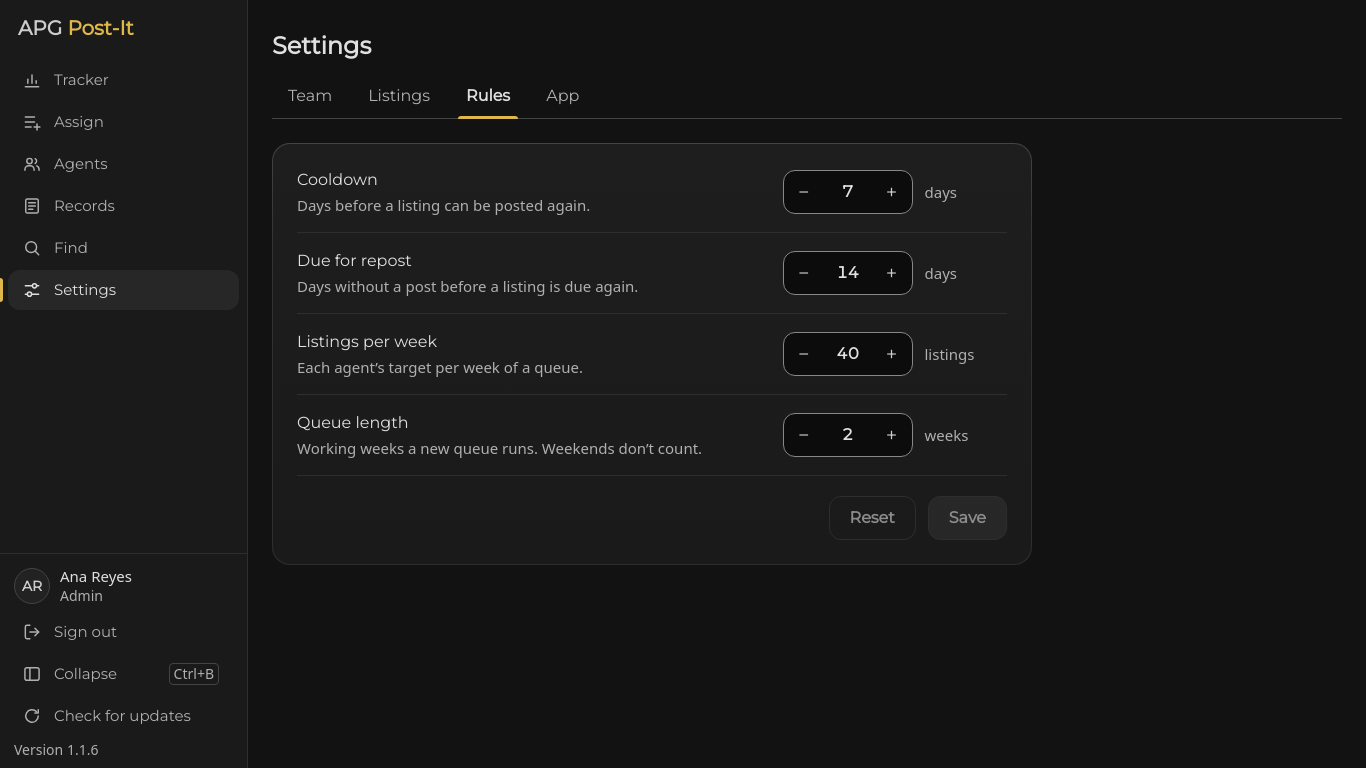
Settings → Rules: the queue length (v14) › reads the queue length, and saves it as queueWeeks
The image size is (1366, 768).
Expected: the field labelled "Queue length" holds "2", [824,414,872,456]
Click the button named "More: Queue length".
click(892, 435)  # box [872,414,912,456]
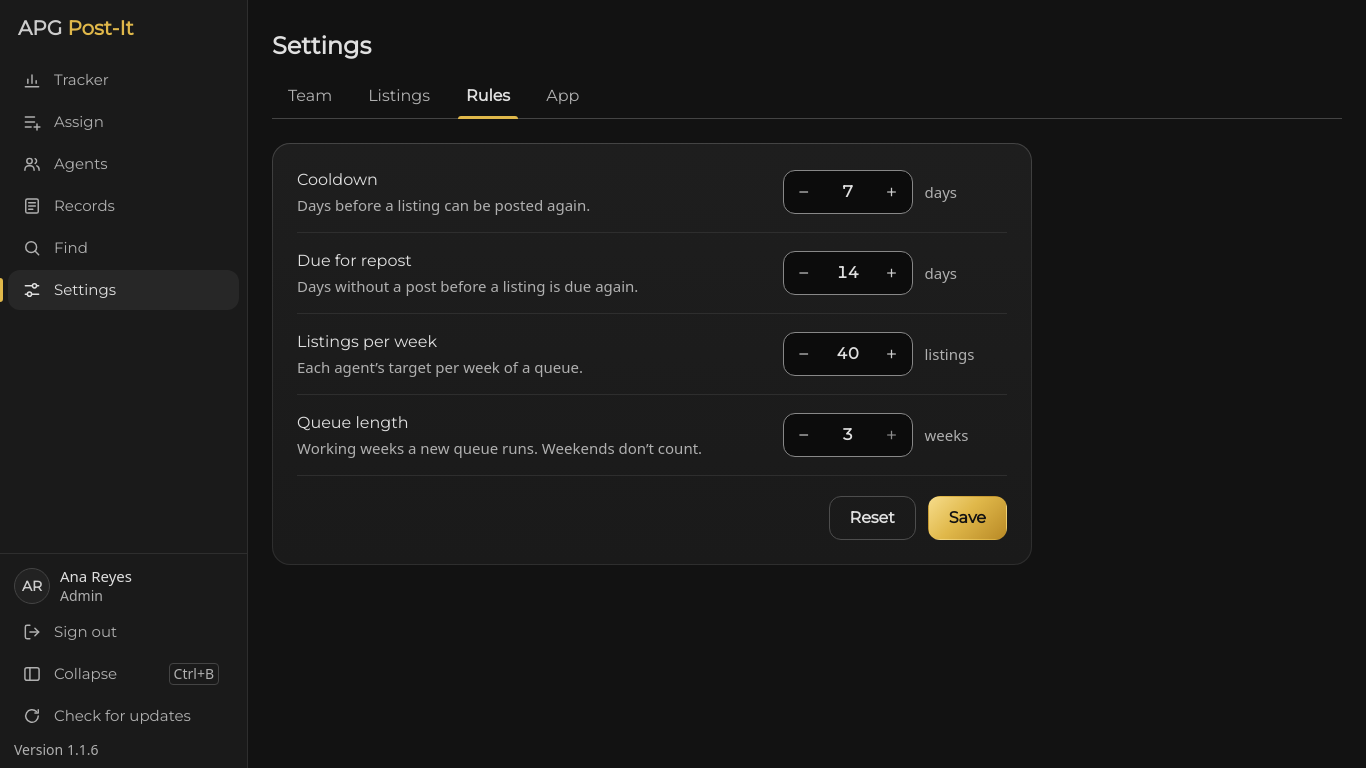
Expected: the field labelled "Queue length" holds "3", [824,414,872,456]
Click the button "Save".
click(967, 518)  # box [928,496,1007,540]
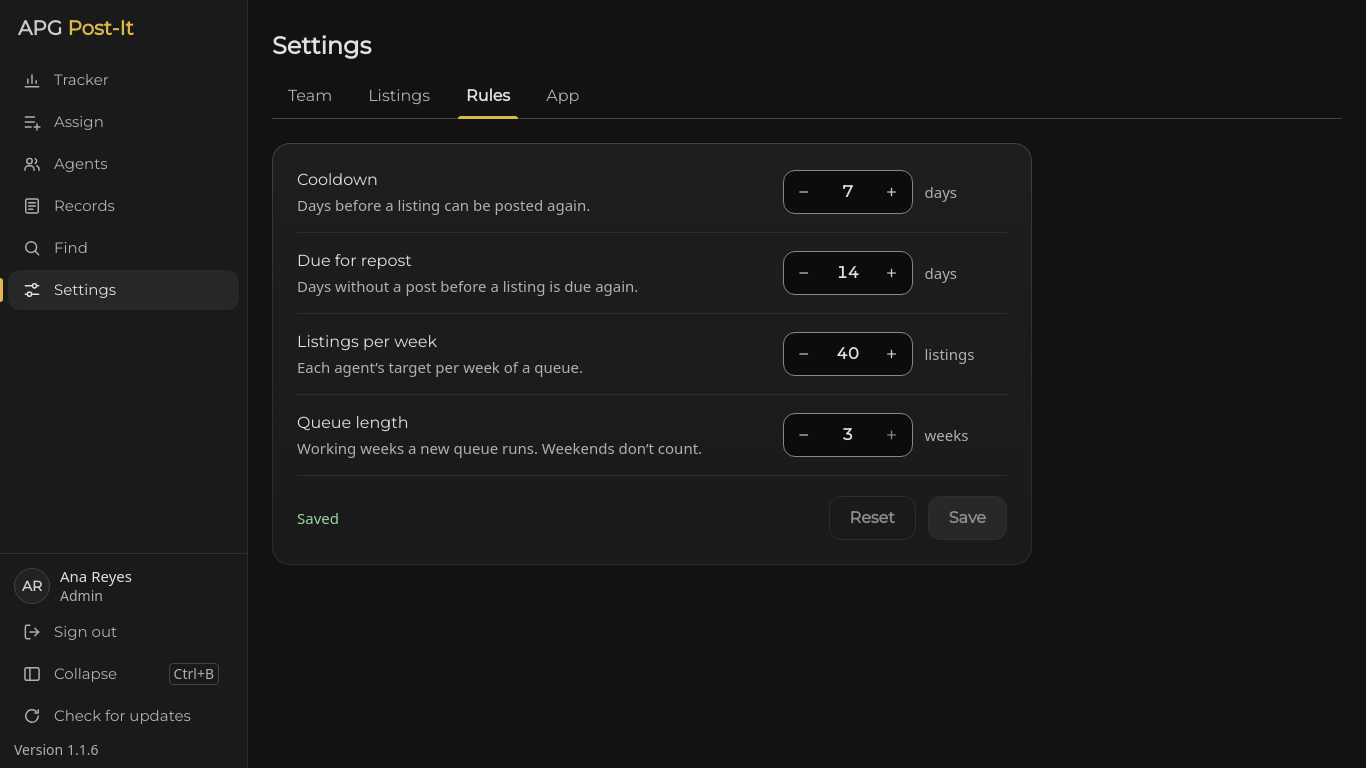
Expected: the text "Saved" is shown, [297,507,339,529]
